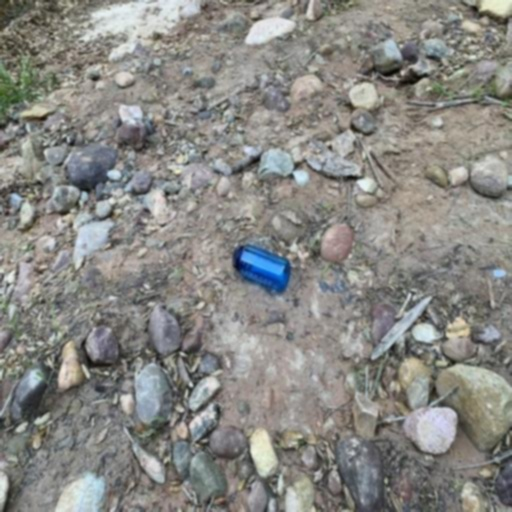bottle: (232, 244, 291, 291)
